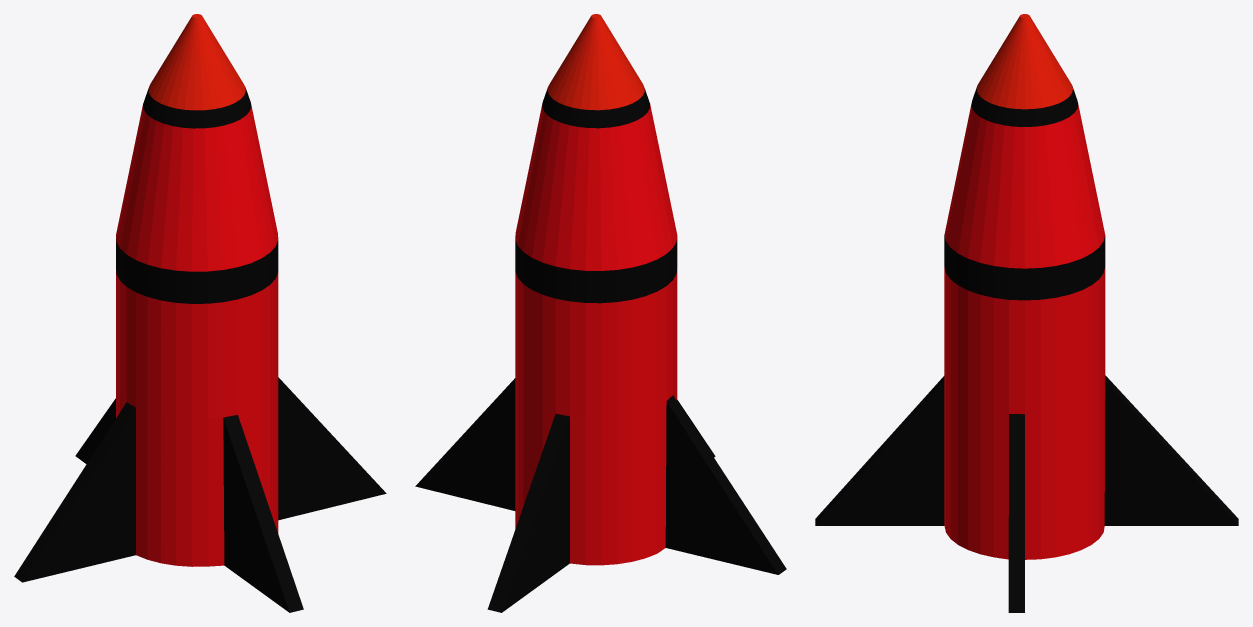
File: rocket.fbx
3 views of the same model, side by side, from view 1: azimuth 30°, elevation 25°; view 2: azimuth 150°, elevation 25°; view 3: azimuth 270°, elevation 25° (orthographic).
Parts seen in each view (by area): view 1: Cylinder.001; view 2: Cylinder.001; view 3: Cylinder.001.
Boxes of the visible parts, left/top/right/bottom form: Cylinder.001: left=14, top=14, right=386, bottom=612; Cylinder.001: left=415, top=14, right=786, bottom=612; Cylinder.001: left=815, top=14, right=1238, bottom=612.
Bounding box in the file's own units: 517 × 700 × 527.
